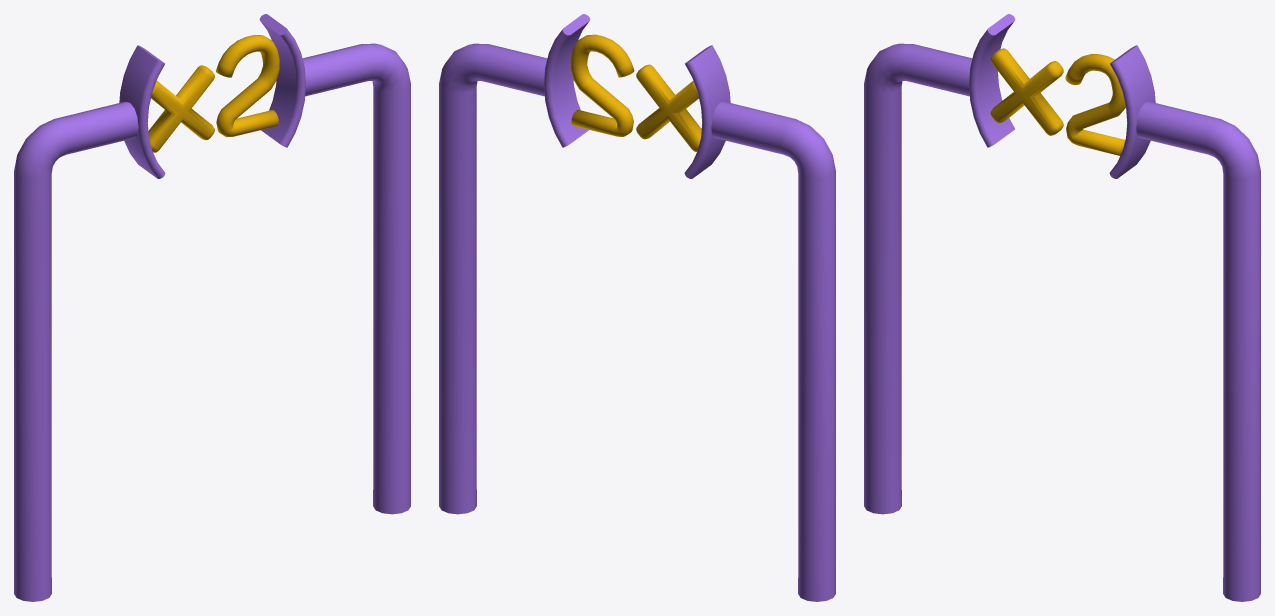
Rendered from x2kaps.fbx.
3 views of the same model, side by side, from view 1: azimuth 30°, elevation 25°; view 2: azimuth 150°, elevation 25°; view 3: azimuth 330°, elevation 25° (orthographic).
Visible parts, largest first — view 1: Cube, Circle, Plane.001, Cube.002; view 2: Cube, Circle, Plane.001, Cube.002; view 3: Cube, Circle, Cube.002, Plane.001.
Part boxes in pixels (bbox=[...]): Cube: bbox=[14, 43, 410, 601]; Circle: bbox=[119, 14, 305, 178]; Plane.001: bbox=[216, 35, 279, 136]; Cube.002: bbox=[148, 65, 214, 152]; Cube: bbox=[439, 43, 835, 601]; Circle: bbox=[544, 14, 730, 178]; Plane.001: bbox=[570, 34, 634, 136]; Cube.002: bbox=[636, 64, 701, 151]; Cube: bbox=[864, 43, 1260, 601]; Circle: bbox=[969, 14, 1155, 178]; Cube.002: bbox=[990, 48, 1063, 135]; Plane.001: bbox=[1065, 53, 1125, 155].
Size of the model in its own units: 71.86 by 89.92 by 7.6.
